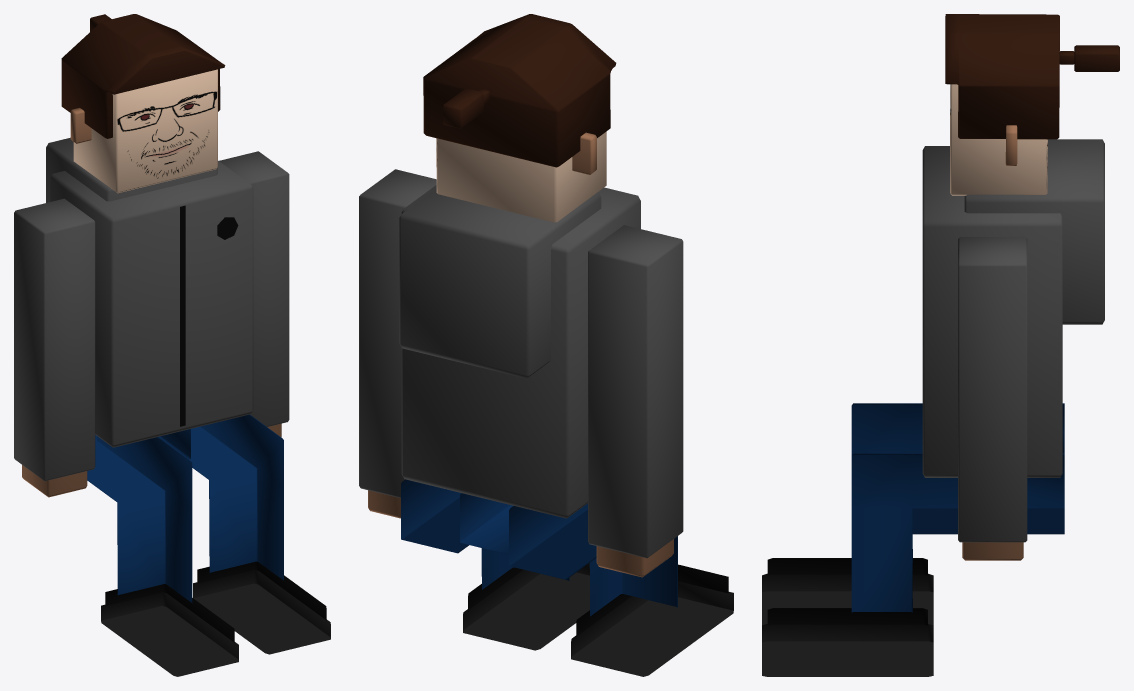
Rendered from MarkoSitting.FBX.
The picture shows the model from 3 angles, left to right: view 1: azimuth 30°, elevation 25°; view 2: azimuth 150°, elevation 25°; view 3: azimuth 270°, elevation 25°; orthographic projection. The views are drawn at different scales.
Visible parts, largest first — view 1: Body, Ass, RArm, Head, LArm; view 2: Body, Ass, RArm, Head, LArm; view 3: Ass, Body, LArm, Head.
Boxes of the visible parts, left/top/right/bottom form: Body: left=46, top=137, right=253, bottom=447; Ass: left=87, top=414, right=330, bottom=676; RArm: left=14, top=198, right=95, bottom=497; Head: left=61, top=14, right=225, bottom=193; LArm: left=219, top=151, right=289, bottom=437; Body: left=399, top=185, right=640, bottom=518; Ass: left=401, top=479, right=733, bottom=676; RArm: left=588, top=225, right=683, bottom=577; Head: left=423, top=14, right=616, bottom=222; LArm: left=359, top=169, right=436, bottom=518; Ass: left=762, top=403, right=1064, bottom=676; Body: left=922, top=139, right=1104, bottom=477; LArm: left=958, top=237, right=1027, bottom=560; Head: left=945, top=14, right=1119, bottom=195.
Size of the model in its own units: 133 by 282 by 150.
